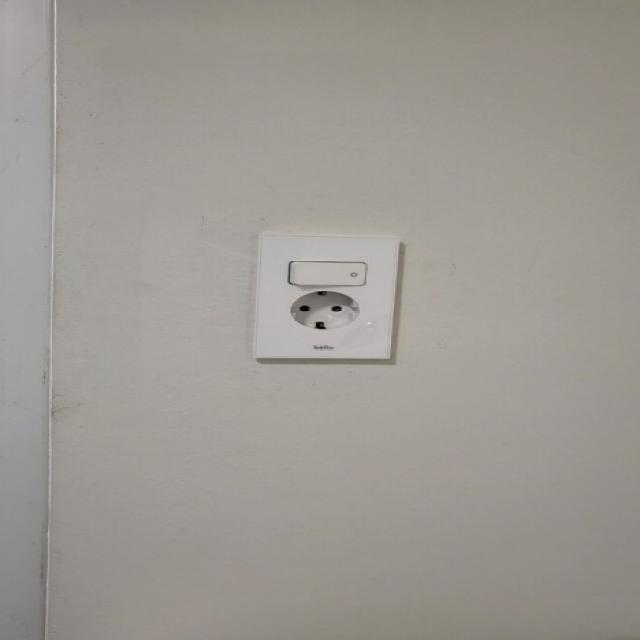typeb: (229, 232, 465, 396)
